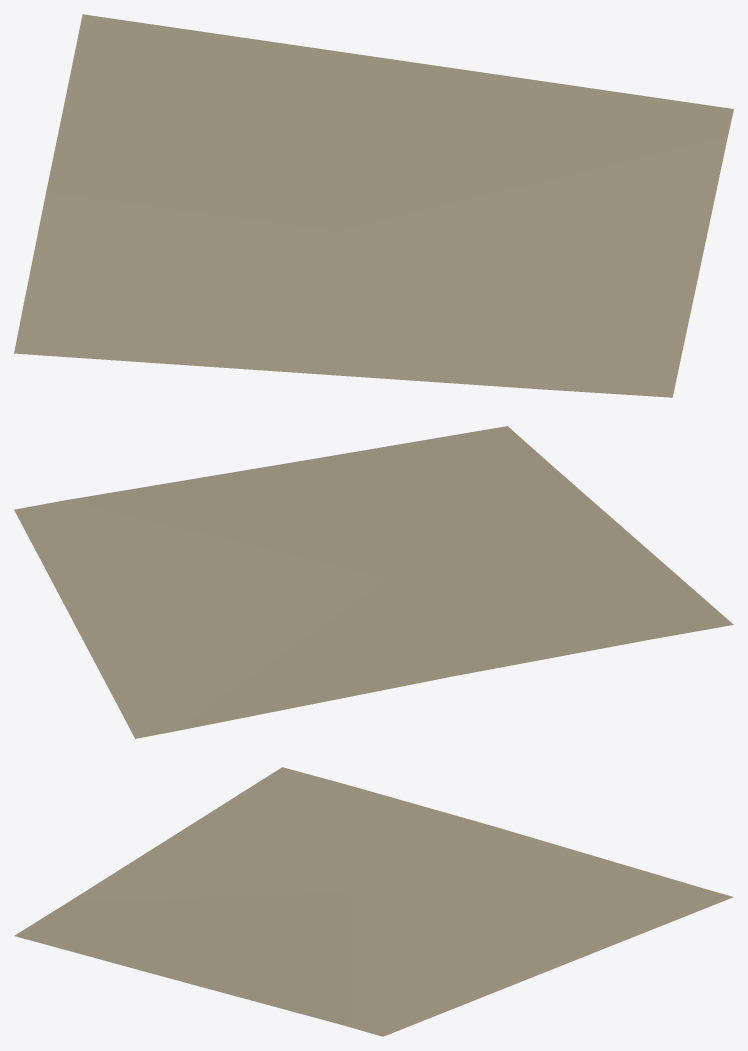
Rendered from farm_-23_-22_soil.glb.
3 renders of one model, top to bottom at view 1: azimuth 30°, elevation 25°; view 2: azimuth 150°, elevation 25°; view 3: azimuth 270°, elevation 25°, orthographic. The views are drawn at different scales.
Parts seen in each view (by area): view 1: geometry_0; view 2: geometry_0; view 3: geometry_0.
Part boxes in pixels (x1,y1,x2,y2): geometry_0: (14,14,733,397); geometry_0: (14,426,733,738); geometry_0: (14,767,733,1036).
Size of the model in its own units: 77.49 by 1.98 by 87.85.
